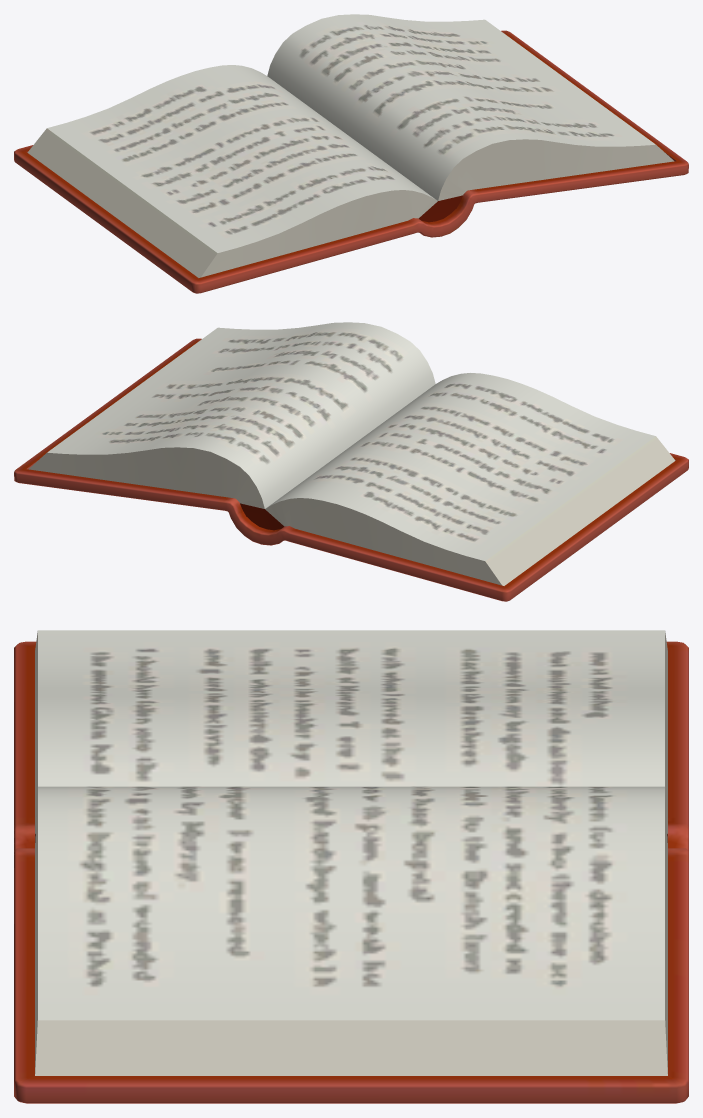
The model's file is lounge-book.glb.
3 views of the same model, one above another, from view 1: azimuth 30°, elevation 25°; view 2: azimuth 150°, elevation 25°; view 3: azimuth 270°, elevation 25° (orthographic). The views are drawn at different scales.
Parts seen in each view (by area): view 1: Scene; view 2: Scene; view 3: Scene.
Boxes of the visible parts, bbox=[...] form: Scene: bbox=[14, 14, 688, 293]; Scene: bbox=[14, 322, 688, 601]; Scene: bbox=[14, 630, 688, 1103].
Size of the model in its own units: 7.46 by 1.07 by 4.79.
Materials: 1 (1 with a texture image).
